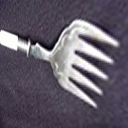Fork: (1, 17, 121, 108)
